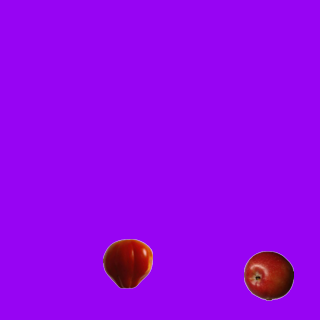Apple Braeburn: (243, 250, 293, 300)
Tomato 1: (102, 238, 152, 288)
